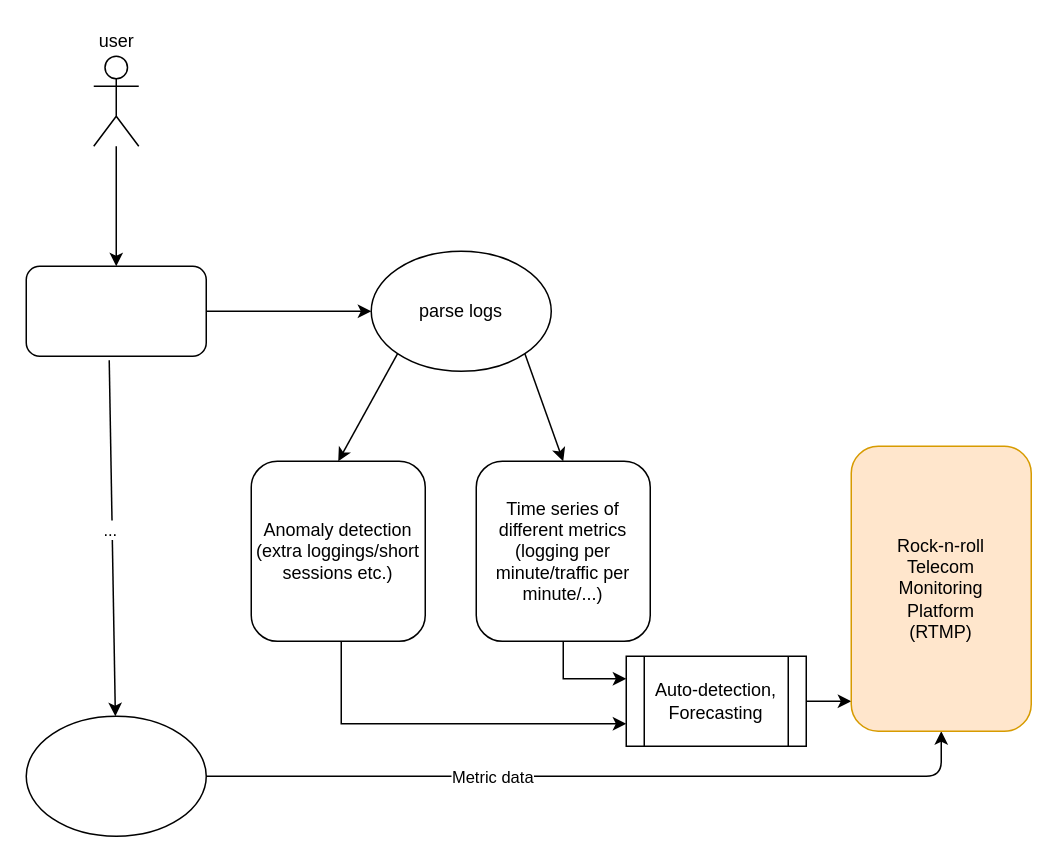
The diagram is 1058 pixels wide and 863 high, and some of its shapes have lost their labels. The shapes that lost their labels are listed below. From the top down, each one's centre as x and y in pixels, then its label:
the point at 115,310: Radious
the point at 115,775: Sandbox
